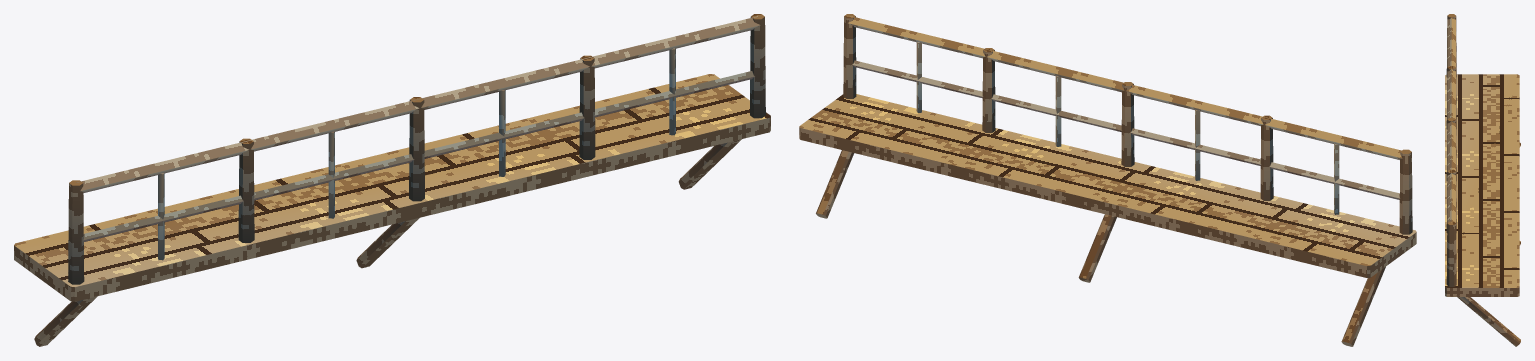
Rendered from wtown.balcony__wide.glb.
The picture shows the model from 3 angles, left to right: view 1: azimuth 30°, elevation 25°; view 2: azimuth 150°, elevation 25°; view 3: azimuth 270°, elevation 25°; orthographic projection. The views are drawn at different scales.
Parts seen in each view (by area): view 1: kit_deck, kit_railing, kit_brackets; view 2: kit_deck, kit_railing, kit_brackets; view 3: kit_deck, kit_railing, kit_brackets.
Boxes of the visible parts, bbox=[...] form: kit_deck: bbox=[14, 74, 770, 301]; kit_railing: bbox=[68, 14, 765, 284]; kit_brackets: bbox=[34, 139, 741, 346]; kit_deck: bbox=[799, 94, 1416, 277]; kit_railing: bbox=[843, 14, 1412, 234]; kit_brackets: bbox=[816, 150, 1385, 346]; kit_deck: bbox=[1445, 74, 1519, 296]; kit_railing: bbox=[1446, 14, 1456, 286]; kit_brackets: bbox=[1457, 142, 1520, 346].
Bounding box in the file's own units: 7.5 × 2.1 × 1.13.
4 materials, 4 textured.
